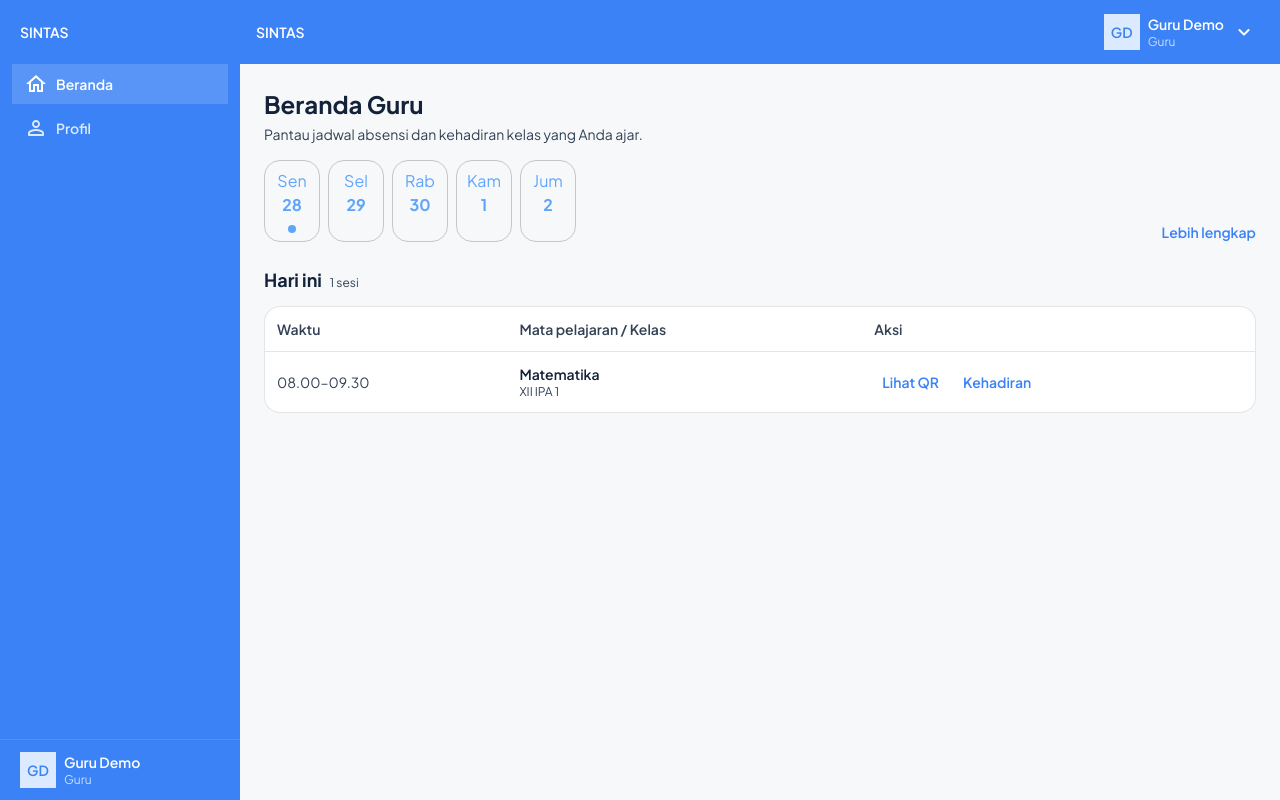
Test: beranda guru › memfilter daftar saat tanggal lain diklik
Step 1. Click the button with aria-label "Senin, 28 September 2026" → [292, 201], box top-left (264, 160), bottom-right (320, 242)
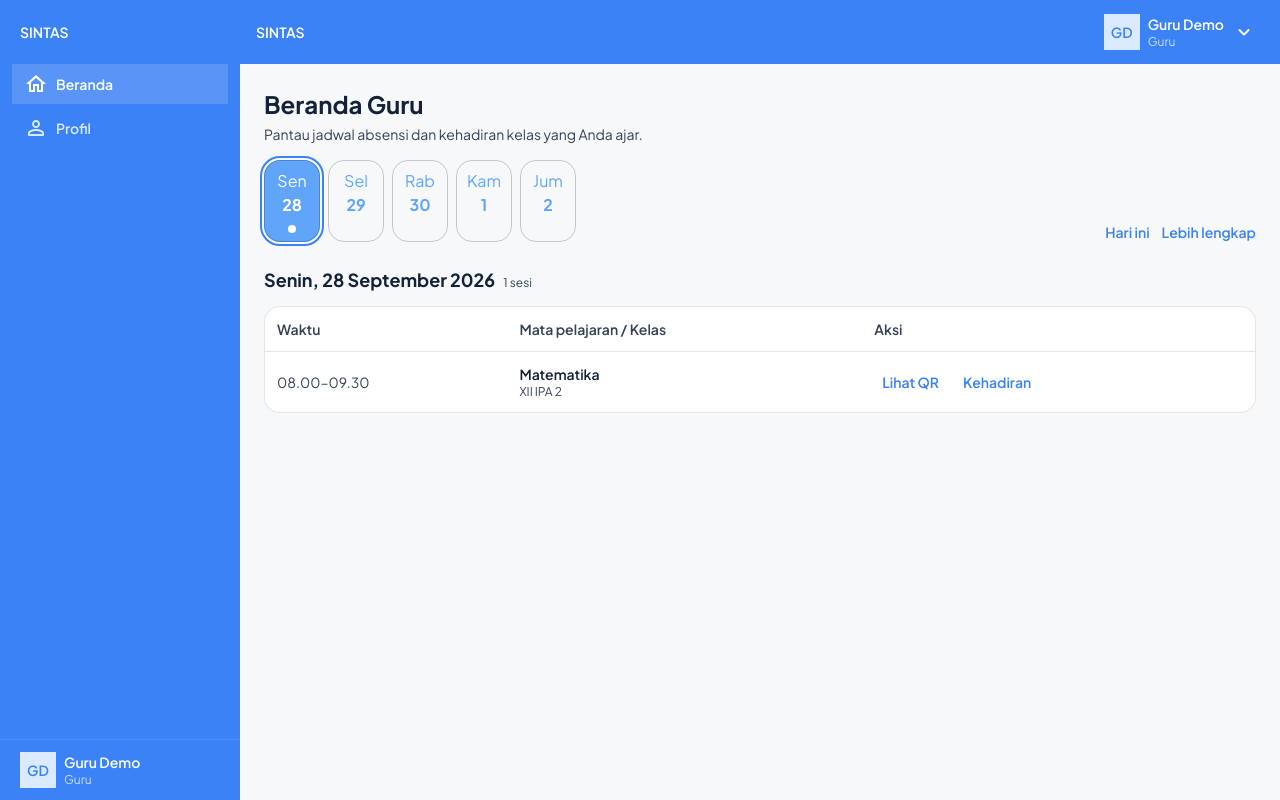
Now the text "XII IPA 1" is not shown
